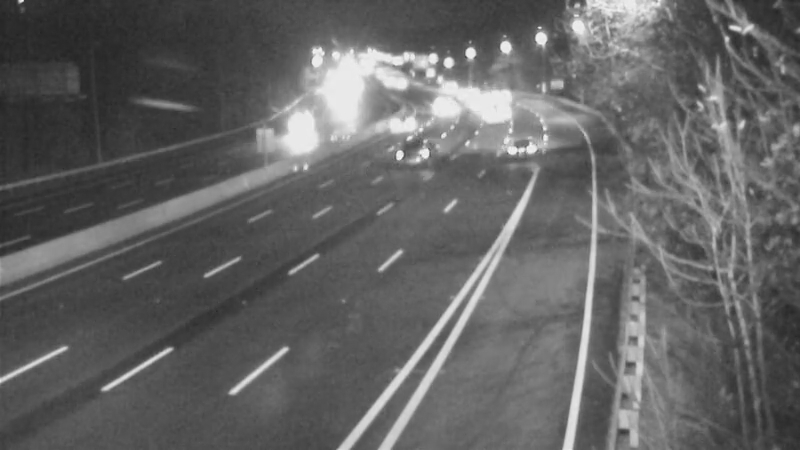vehicle: (372, 111, 452, 191), (423, 63, 473, 113), (474, 69, 524, 119), (438, 66, 488, 116), (420, 77, 470, 127), (453, 80, 503, 130), (464, 88, 514, 138), (370, 103, 420, 153), (493, 121, 543, 171), (278, 103, 328, 153)
